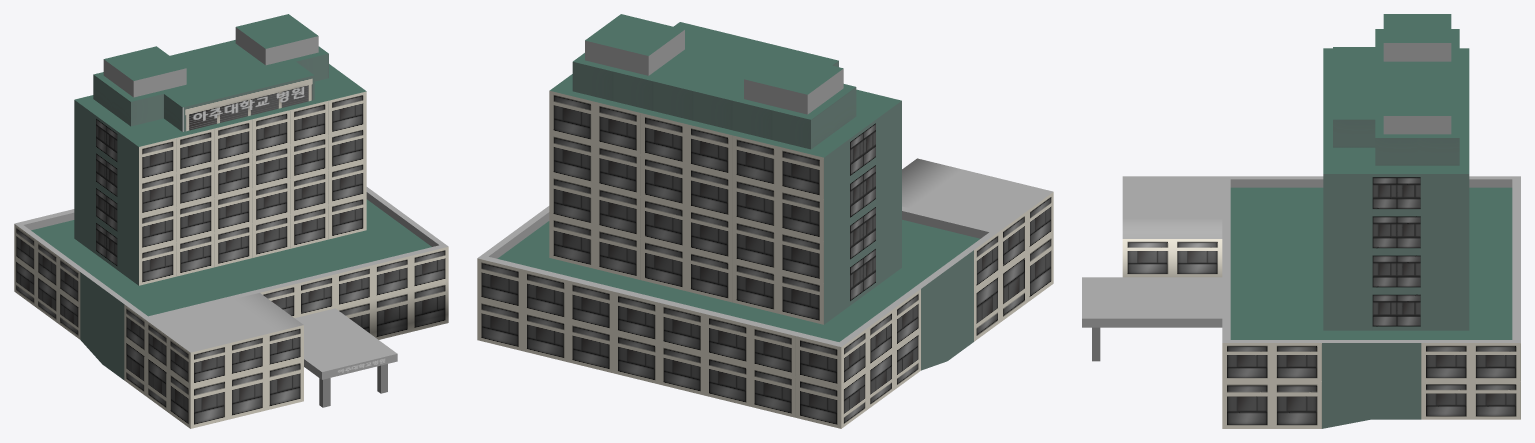
The model's file is building_hospital.fbx.
3 views of the same model, side by side, from view 1: azimuth 30°, elevation 25°; view 2: azimuth 150°, elevation 25°; view 3: azimuth 270°, elevation 25° (orthographic). The views are drawn at different scales.
Visible parts, largest first — view 1: buliding_hospital; view 2: buliding_hospital; view 3: buliding_hospital.
Part boxes in pixels (left/top/right/bottom): buliding_hospital: left=14, top=14, right=448, bottom=428; buliding_hospital: left=477, top=14, right=1053, bottom=428; buliding_hospital: left=1082, top=14, right=1520, bottom=428.
Size of the model in its own units: 3.7 by 2.91 by 4.12.
1 material, 1 textured.
